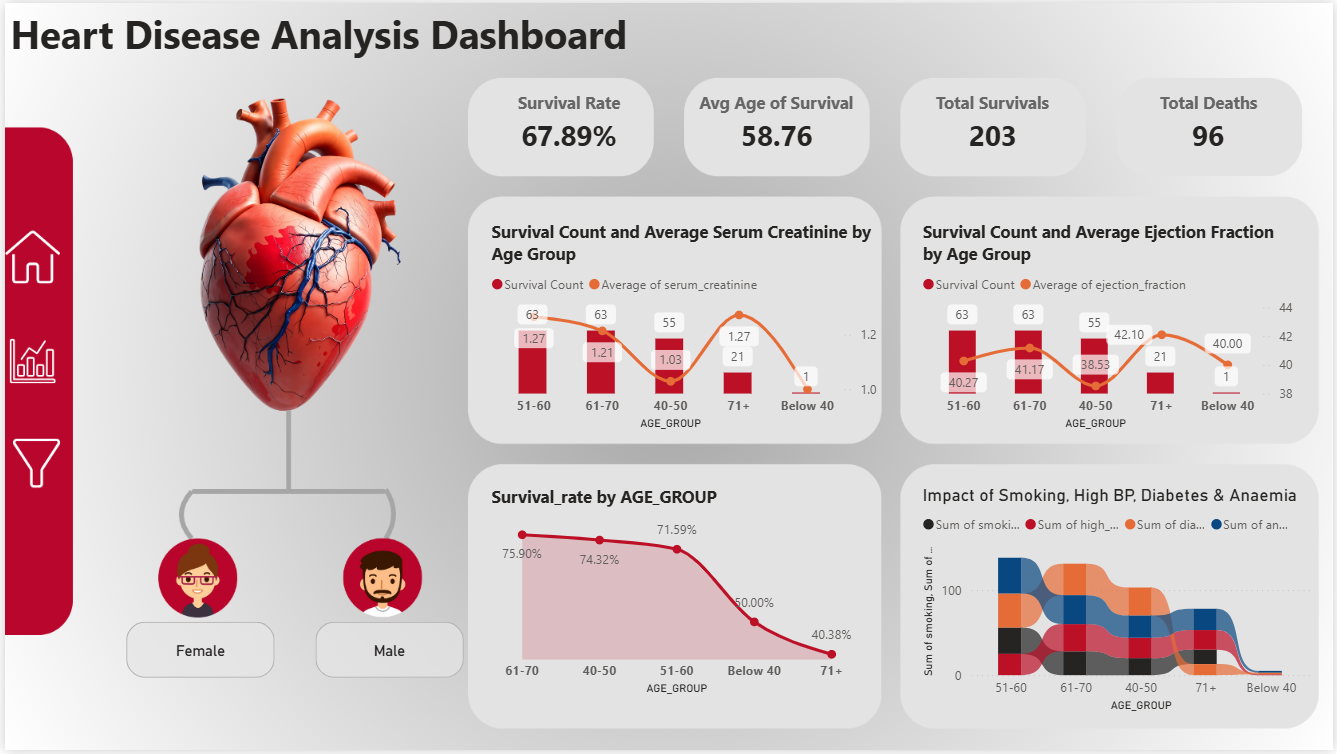

The dashboard page shown, as its layout file describes it:
{"tool":"powerbi","page":{"name":"Page 1","canvas":[1280,720],"ordinal":0},"visuals":[{"type":"textbox","box":[0,0,624,64],"z":1500},{"type":"card","fields":{"Values":["heart_Disease_clinical_records_.Survival_rate"]},"box":[480,96,128,64],"z":2000},{"type":"card","fields":{"Values":["heart_Disease_clinical_records_.Average_age_survival"]},"box":[688,96,112,64],"z":3000},{"type":"card","fields":{"Values":["heart_Disease_clinical_records_.Total_survivour"]},"box":[896,96,112,64],"z":4000},{"type":"card","fields":{"Values":["heart_Disease_clinical_records_.Total_death"]},"box":[1104,96,112,64],"z":5000},{"type":"textbox","box":[480,80,128,48],"z":6000},{"type":"lineClusteredColumnComboChart","title":"Survival Count and Average Serum Creatinine by Age Group","fields":{"Category":["heart_Disease_clinical_records_.AGE_GROUP"],"Y":["CountNonNull(heart_Disease_clinical_records_.DEATH_EVENT)"],"Y2":["Avg(heart_Disease_clinical_records_.serum_creatinine)"]},"box":[464,208,384,208],"z":7000},{"type":"textbox","box":[656,80,176,48],"z":8000},{"type":"textbox","box":[880,80,144,48],"z":9000},{"type":"textbox","box":[1088,80,144,48],"z":10000},{"type":"lineClusteredColumnComboChart","title":"Survival Count and Average Ejection Fraction by Age Group","fields":{"Category":["heart_Disease_clinical_records_.AGE_GROUP"],"Y":["CountNonNull(heart_Disease_clinical_records_.DEATH_EVENT)"],"Y2":["Avg(heart_Disease_clinical_records_.ejection_fraction)"]},"box":[880,208,368,208],"z":11000},{"type":"lineChart","fields":{"Category":["heart_Disease_clinical_records_.AGE_GROUP"],"Y":["heart_Disease_clinical_records_.Survival_rate"]},"box":[464,464,368,208],"z":12000},{"type":"ribbonChart","title":"Impact of Smoking, High BP, Diabetes & Anaemia","fields":{"Category":["heart_Disease_clinical_records_.AGE_GROUP"],"Y":["Sum(heart_Disease_clinical_records_.smoking)","Sum(heart_Disease_clinical_records_.high_blood_pressure)","Sum(heart_Disease_clinical_records_.diabetes)","Sum(heart_Disease_clinical_records_.anaemia)"]},"box":[880,464,384,224],"z":13000},{"type":"advancedSlicerVisual","fields":{"Values":["heart_Disease_clinical_records_.Gender"]},"box":[112,592,336,64],"z":13001}]}

Visuals, with their boxes in screenshot pixels (x1, y1, x2, y2), scaled from the page's 1280x720 canvas onto the 1337x754 screenshot:
textbox: Rect(0, 0, 652, 67)
card - heart_Disease_clinical_records_.Survival_rate: Rect(501, 101, 635, 168)
card - heart_Disease_clinical_records_.Average_age_survival: Rect(719, 101, 836, 168)
card - heart_Disease_clinical_records_.Total_survivour: Rect(936, 101, 1053, 168)
card - heart_Disease_clinical_records_.Total_death: Rect(1153, 101, 1270, 168)
textbox: Rect(501, 84, 635, 134)
"Survival Count and Average Serum Creatinine by Age Group" lineClusteredColumnComboChart: Rect(485, 218, 886, 436)
textbox: Rect(685, 84, 869, 134)
textbox: Rect(919, 84, 1070, 134)
textbox: Rect(1136, 84, 1287, 134)
"Survival Count and Average Ejection Fraction by Age Group" lineClusteredColumnComboChart: Rect(919, 218, 1304, 436)
lineChart - heart_Disease_clinical_records_.AGE_GROUP x heart_Disease_clinical_records_.Survival_rate: Rect(485, 486, 869, 704)
"Impact of Smoking, High BP, Diabetes & Anaemia" ribbonChart: Rect(919, 486, 1320, 720)
advancedSlicerVisual - heart_Disease_clinical_records_.Gender: Rect(117, 620, 468, 687)
